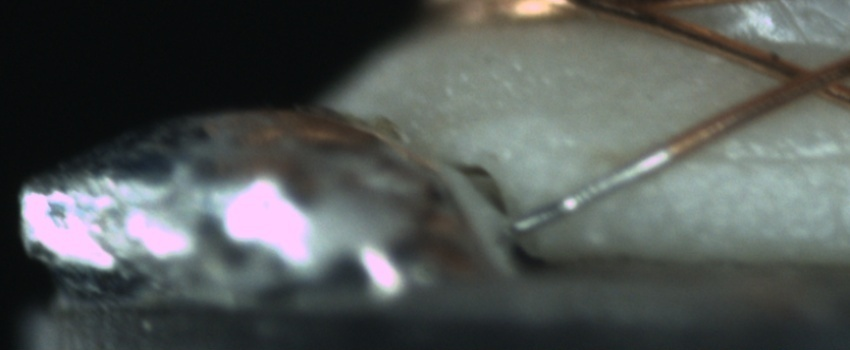CL: (764, 49, 847, 104)
DL: (629, 126, 849, 183)
TS: (510, 146, 675, 236)
TTCW: (503, 115, 723, 239)
